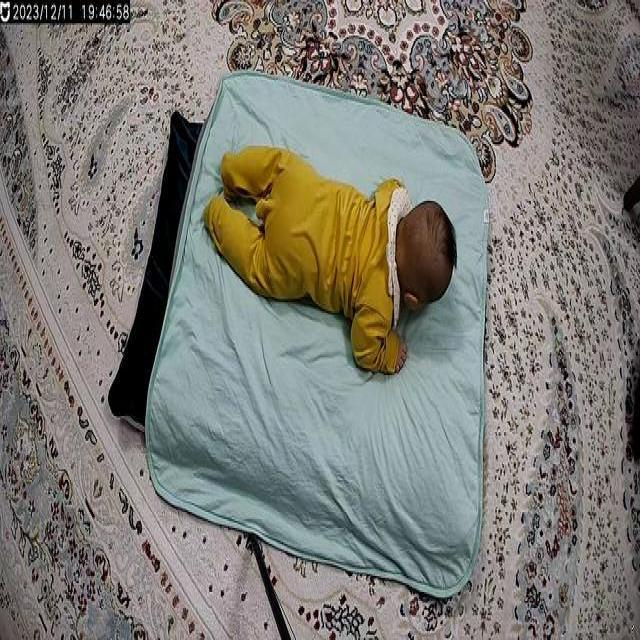baby: (206, 137, 457, 380)
